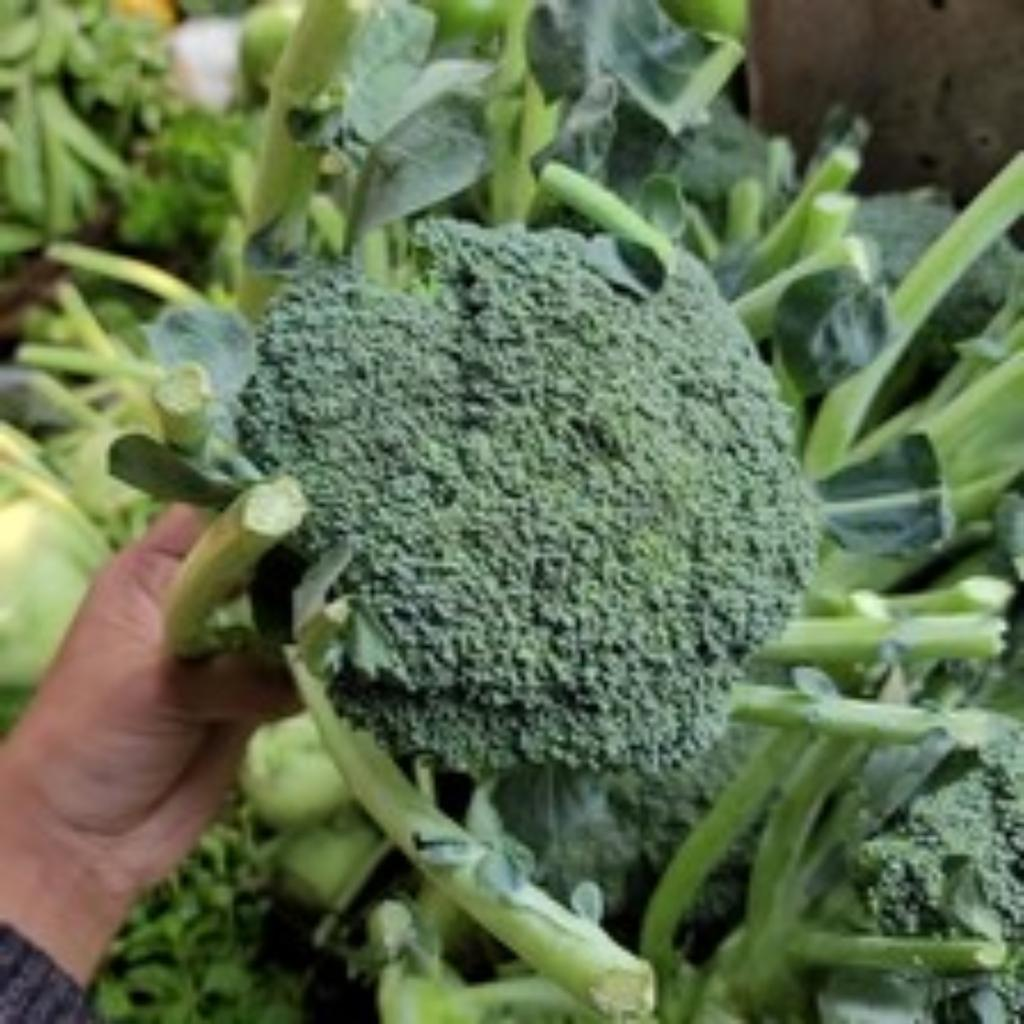Broccoli: (238, 220, 816, 771), (240, 220, 814, 771)
